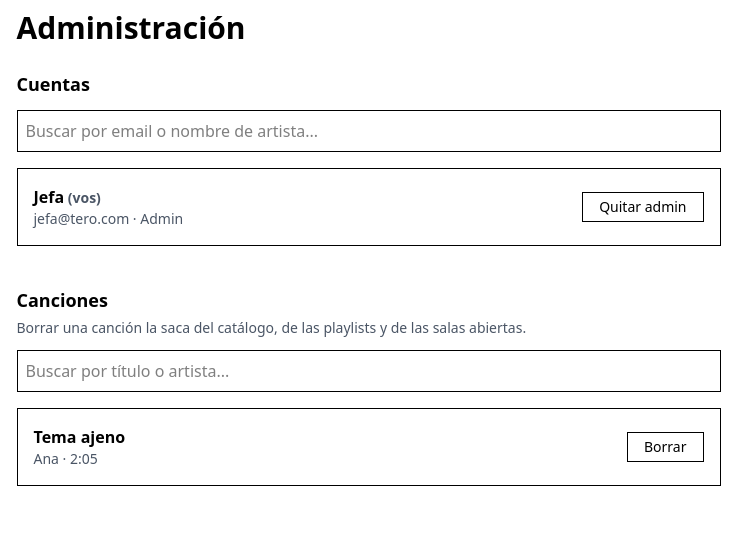
Test case: Admin › avisa cuando no se puede sacar al último admin
Click the button "Quitar admin".
click(643, 207)  # box [582,192,704,222]
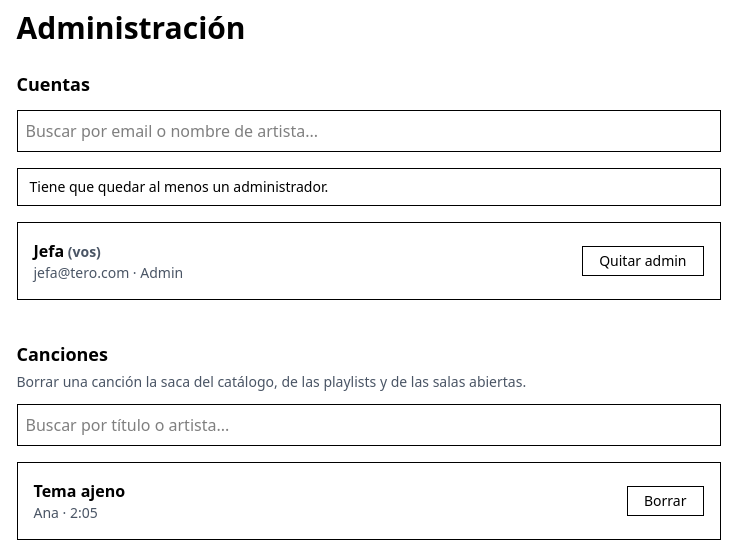
Check: the text "Tiene que quedar al menos un administrador." is shown, box [16,168,720,206]
